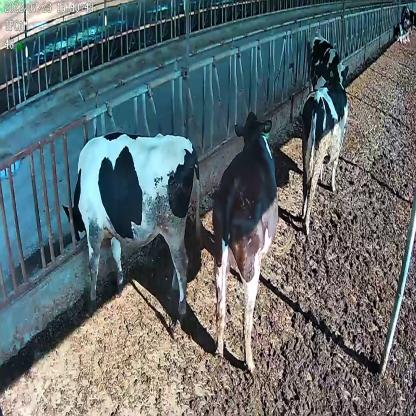cow: (61, 131, 201, 339), (211, 110, 279, 372), (301, 68, 349, 233), (306, 30, 350, 92)
